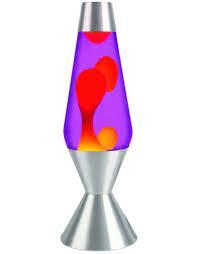Lamp: (57, 1, 140, 252)
